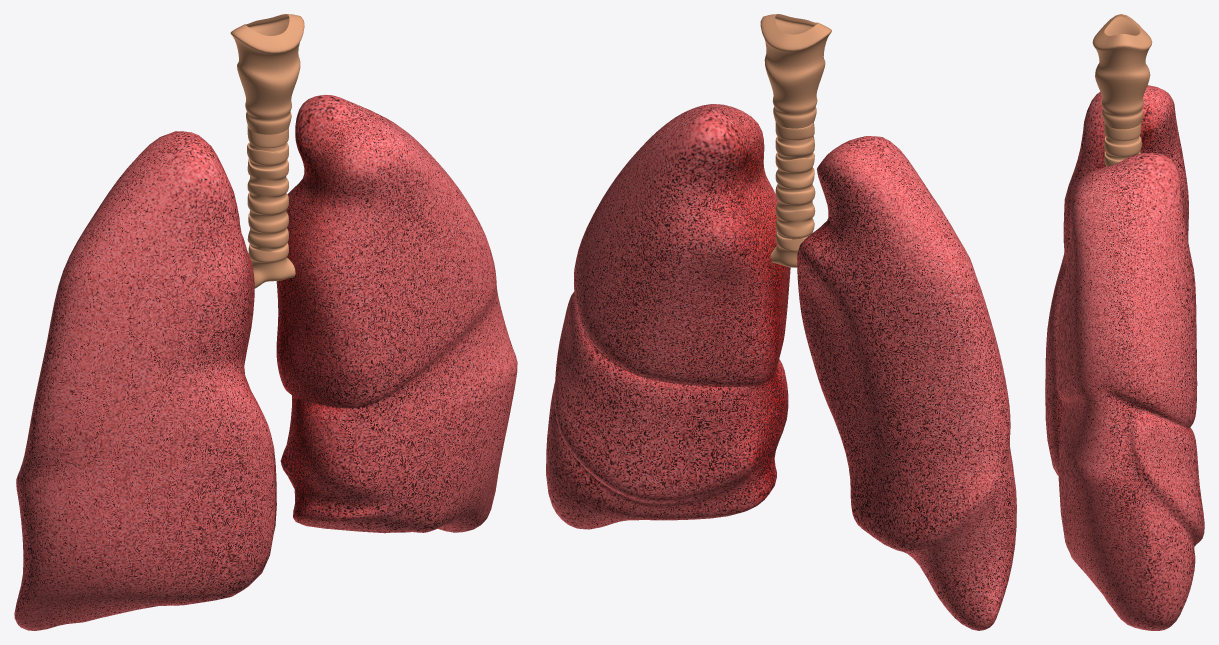
File: finallungs.glb
The picture shows the model from 3 angles, left to right: view 1: azimuth 30°, elevation 25°; view 2: azimuth 150°, elevation 25°; view 3: azimuth 270°, elevation 25°; orthographic projection. The views are drawn at different scales.
Visible parts, largest first — view 1: Circle.001, Circle.002; view 2: Circle.001, Circle.002; view 3: Circle.001, Circle.002.
Part boxes in pixels (bbox=[...]): Circle.001: bbox=[14, 94, 517, 630]; Circle.002: bbox=[230, 14, 304, 288]; Circle.001: bbox=[546, 104, 1016, 630]; Circle.002: bbox=[760, 14, 831, 267]; Circle.001: bbox=[1045, 85, 1204, 630]; Circle.002: bbox=[1092, 14, 1152, 166].
Bounding box in the file's own units: 3.67 × 4.23 × 1.18.
2 materials, 1 textured.
